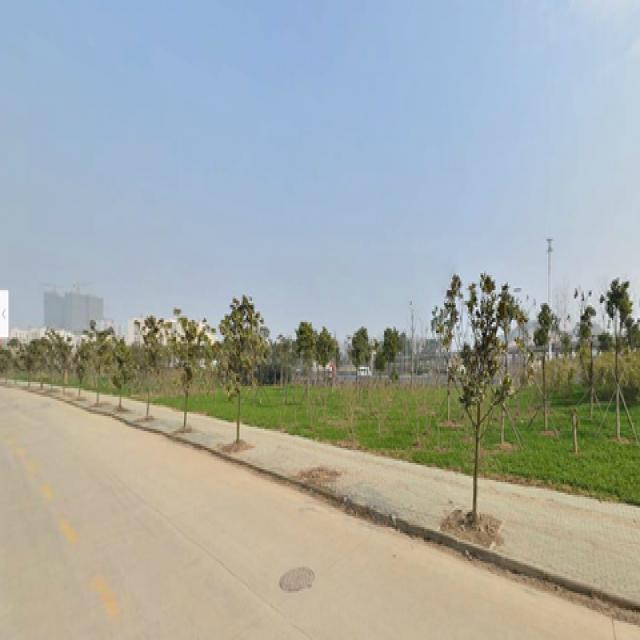magn: (445, 280, 500, 520), (221, 297, 252, 452), (168, 305, 196, 444), (133, 320, 160, 418)
